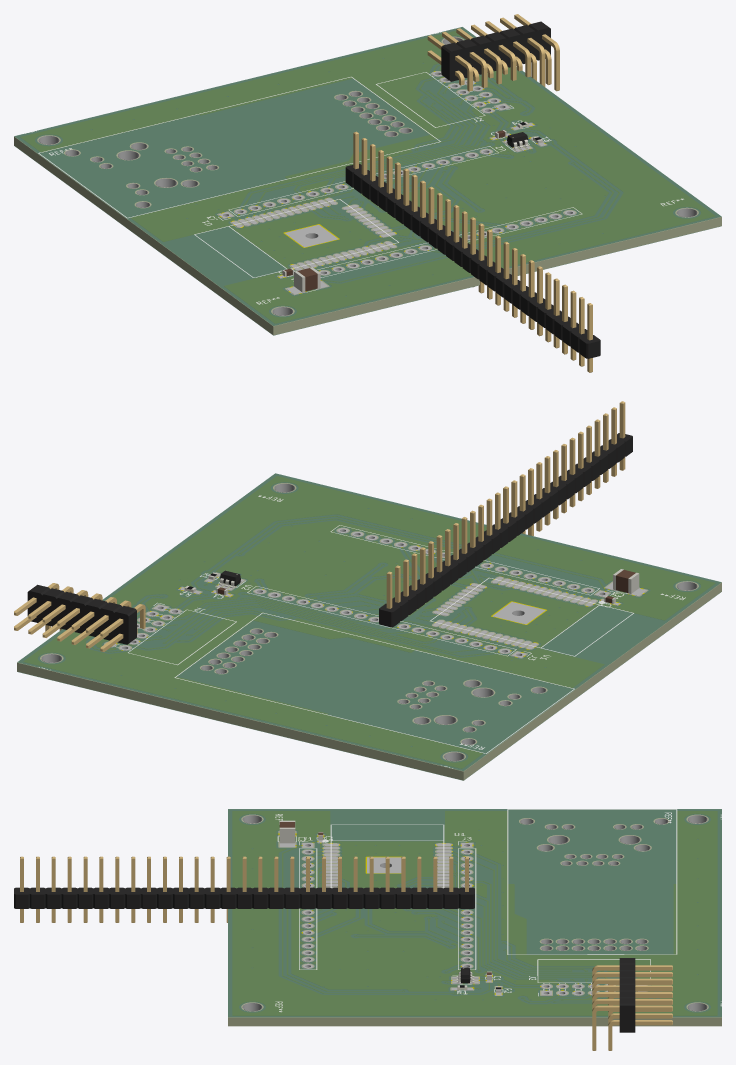
File: board.glb
The picture shows the model from 3 angles, top to bottom: view 1: azimuth 30°, elevation 25°; view 2: azimuth 150°, elevation 25°; view 3: azimuth 270°, elevation 25°; orthographic projection. The views are drawn at different scales.
Visible parts, largest first — view 1: board_soldermask (×2), board_copper, board_PCB, Pin_Header_Straight_1x19_Pitch254mm (×2), board_pad, Pin_Header_Angled_2x07_Pitch254mm, board_silkscreen; view 2: board_soldermask (×2), board_PCB, board_copper, Pin_Header_Straight_1x19_Pitch254mm (×2), board_pad, Pin_Header_Angled_2x07_Pitch254mm, board_silkscreen; view 3: board_soldermask, board_copper, board_PCB, Pin_Header_Straight_1x19_Pitch254mm (×2), board_pad, Pin_Header_Angled_2x07_Pitch254mm, board_silkscreen, C_1210.
Boxes of the visible parts, x1,y1,x2,y2 form: board_soldermask (×2): [14, 27, 721, 335]; board_copper: [21, 31, 714, 322]; board_PCB: [14, 28, 721, 335]; Pin_Header_Straight_1x19_Pitch254mm (×2): [345, 131, 600, 372]; board_pad: [38, 37, 697, 315]; Pin_Header_Angled_2x07_Pitch254mm: [427, 14, 559, 91]; board_silkscreen: [25, 32, 683, 304]; board_soldermask (×2): [17, 473, 721, 780]; board_PCB: [17, 474, 721, 780]; board_copper: [24, 476, 714, 768]; Pin_Header_Straight_1x19_Pitch254mm (×2): [379, 401, 632, 627]; board_pad: [41, 483, 697, 761]; Pin_Header_Angled_2x07_Pitch254mm: [14, 583, 145, 651]; board_silkscreen: [39, 495, 685, 768]; board_soldermask: [228, 809, 721, 1017]; board_copper: [233, 811, 716, 1015]; board_PCB: [228, 810, 721, 1026]; Pin_Header_Straight_1x19_Pitch254mm (×2): [14, 856, 474, 922]; board_pad: [242, 815, 707, 1011]; Pin_Header_Angled_2x07_Pitch254mm: [592, 958, 672, 1050]; board_silkscreen: [275, 809, 721, 1012]; C_1210: [279, 820, 295, 843].
Bounding box in the file's own units: 0.0848 × 0.0122 × 0.1131.
